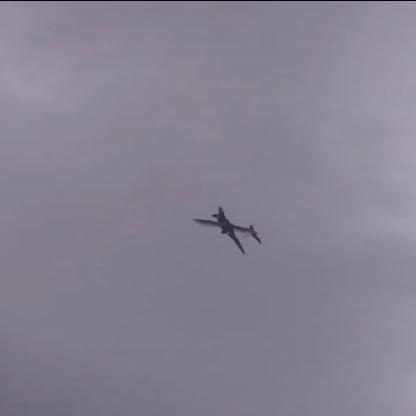plane: (192, 202, 261, 256)
